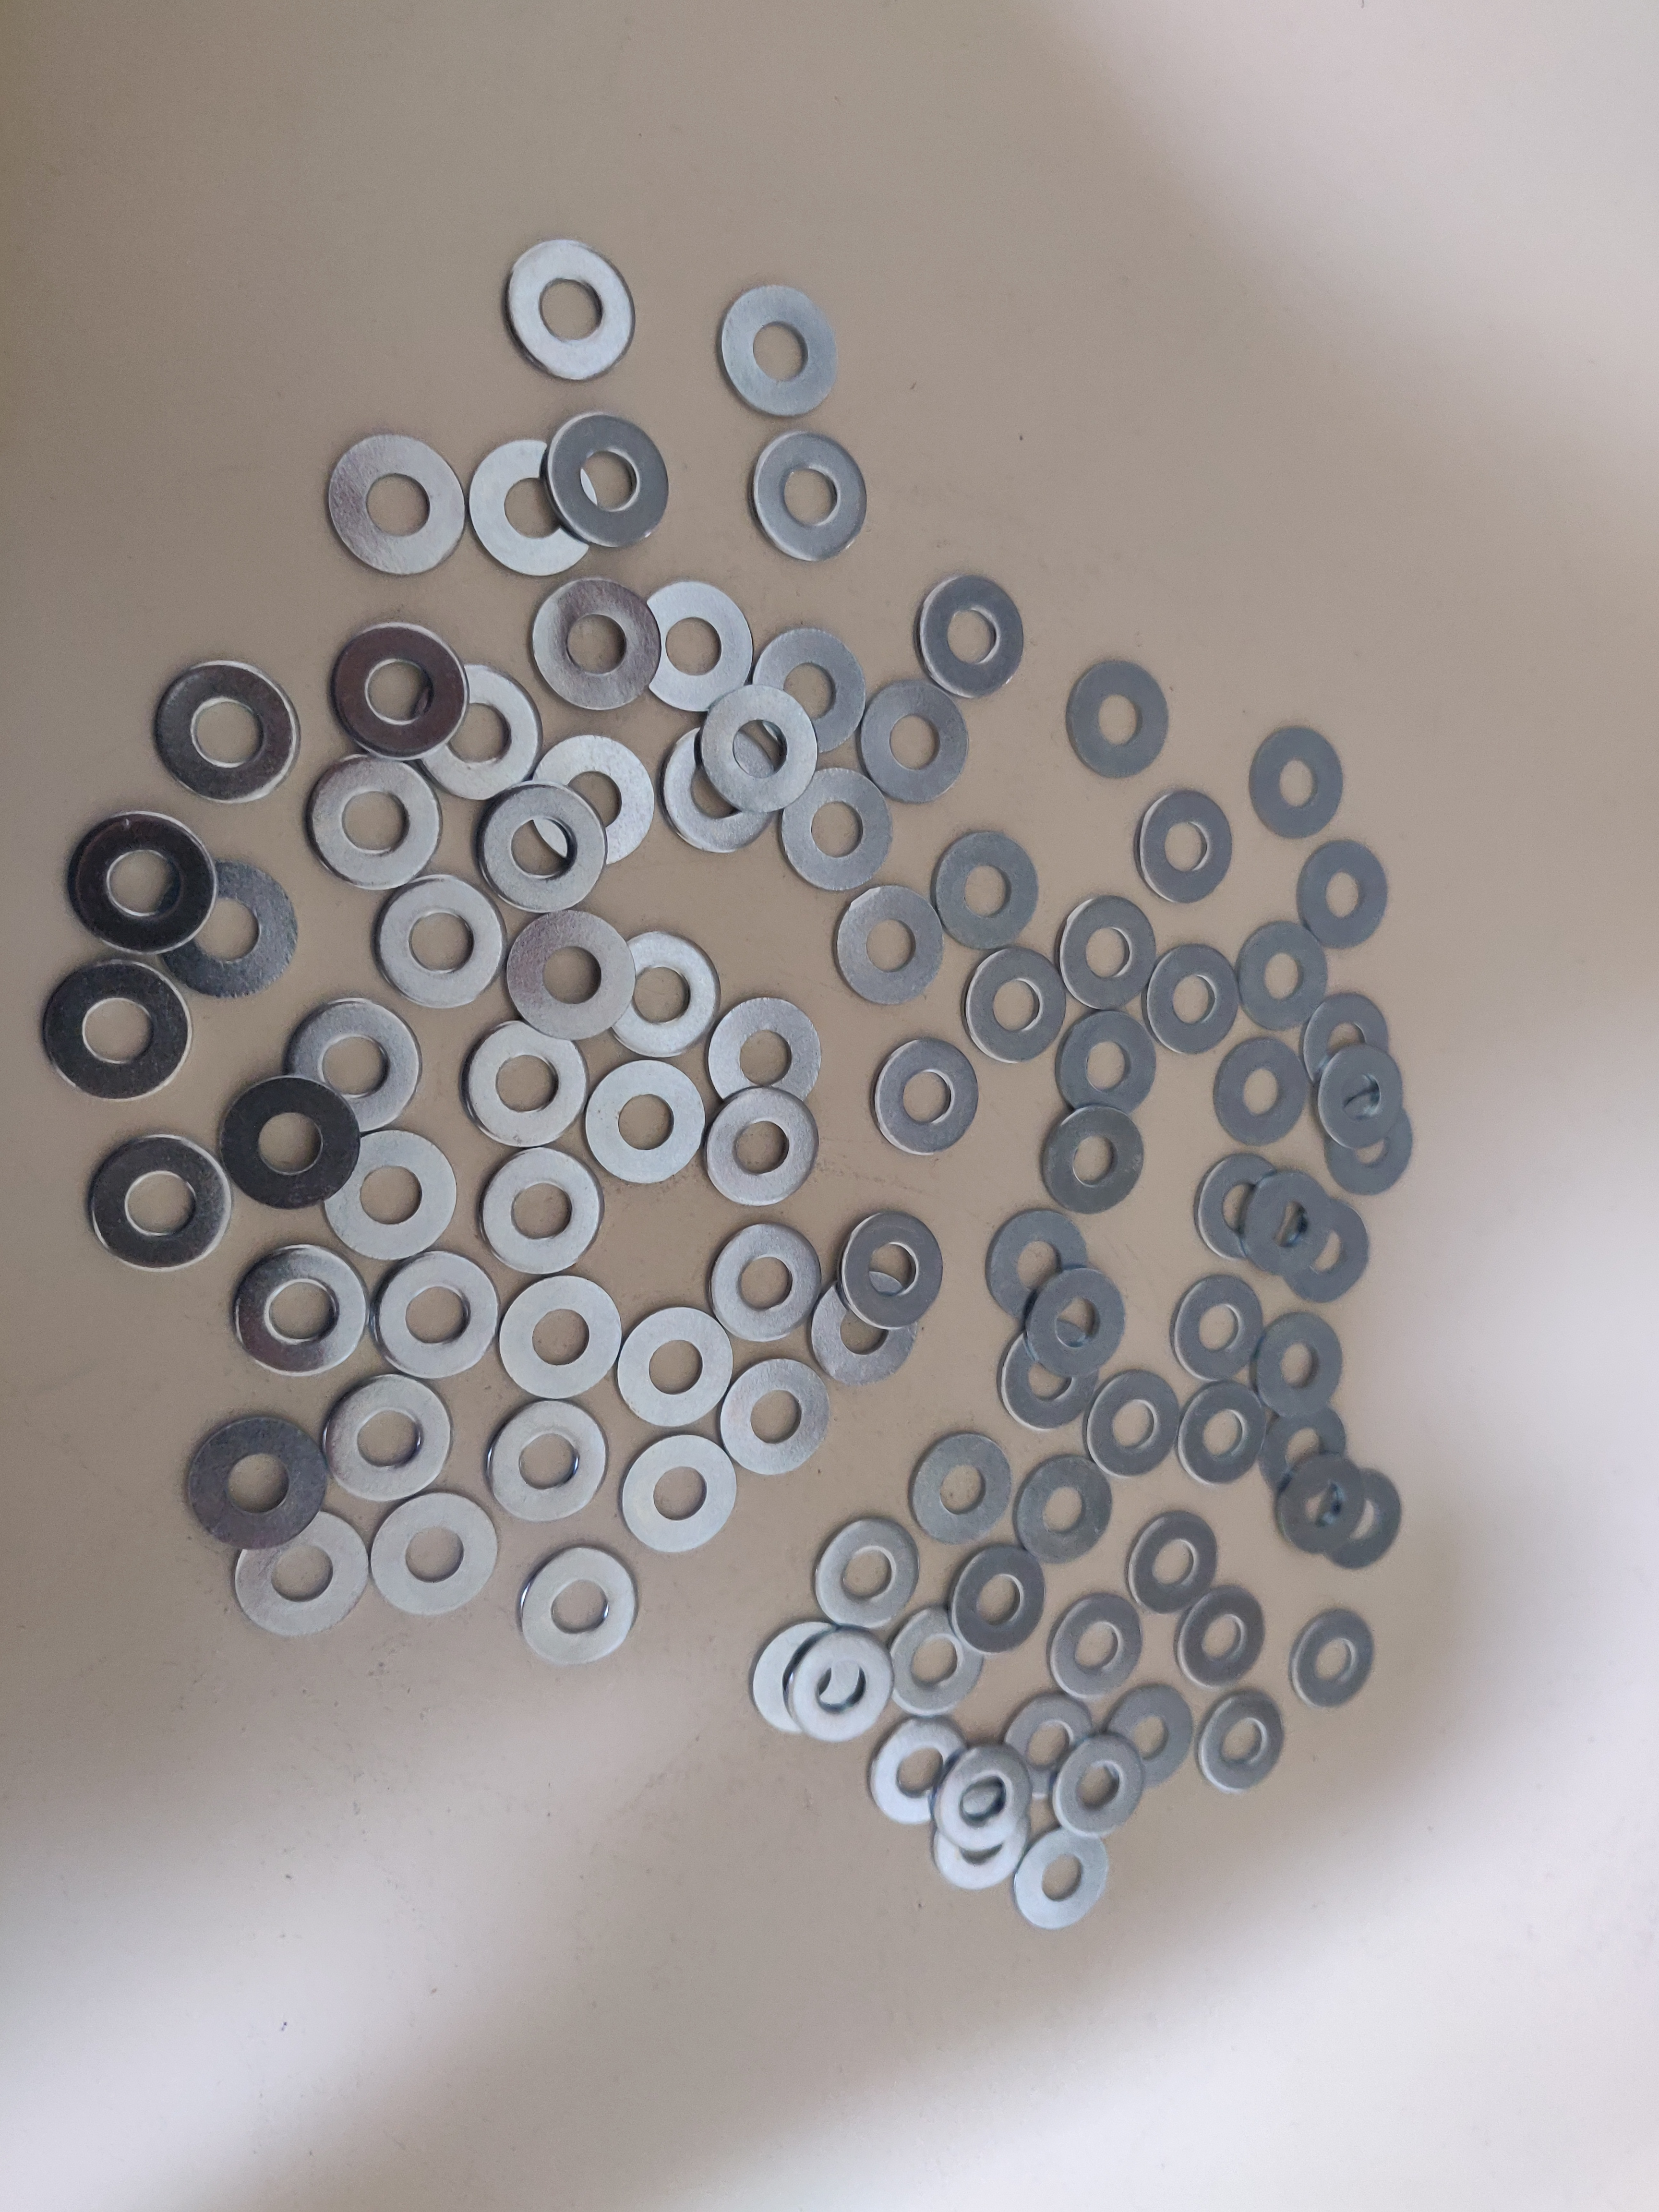cirlce: (319, 423, 474, 589), (146, 651, 303, 806), (68, 806, 218, 958), (42, 958, 192, 1104), (153, 857, 300, 1003), (85, 1129, 232, 1273), (328, 620, 472, 765), (465, 434, 606, 582), (181, 1409, 326, 1547), (305, 754, 444, 895), (404, 667, 547, 805), (220, 1076, 359, 1216), (504, 237, 636, 381), (225, 1245, 371, 1376), (373, 874, 509, 1014), (317, 1371, 453, 1508), (289, 998, 418, 1141), (540, 409, 671, 549), (232, 1508, 371, 1637), (716, 275, 840, 418), (322, 1130, 455, 1263), (746, 427, 871, 566), (502, 909, 636, 1038), (460, 1021, 586, 1158), (359, 1252, 498, 1376), (366, 1489, 497, 1620), (479, 1148, 606, 1282), (528, 735, 657, 866), (653, 723, 782, 852), (495, 1273, 622, 1404), (633, 580, 758, 712), (483, 1399, 612, 1526), (479, 782, 606, 911), (741, 629, 871, 754), (599, 1306, 739, 1423), (694, 686, 821, 813), (774, 765, 894, 899), (598, 932, 723, 1057), (533, 582, 659, 705), (704, 1221, 831, 1341), (709, 1353, 836, 1472), (701, 1083, 821, 1207), (587, 1061, 704, 1188), (518, 1545, 636, 1669), (620, 1433, 741, 1554), (856, 681, 971, 806), (702, 995, 828, 1109), (960, 937, 1068, 1064), (915, 575, 1025, 698), (1066, 651, 1173, 779), (812, 1261, 922, 1383), (875, 1033, 979, 1160), (1134, 782, 1239, 907), (864, 1716, 979, 1829), (1248, 719, 1349, 845), (814, 1517, 922, 1632), (934, 831, 1040, 948), (1023, 1263, 1126, 1383), (845, 1204, 941, 1332), (1037, 1106, 1148, 1216), (985, 1209, 1094, 1320), (746, 1618, 857, 1728), (788, 1625, 892, 1742), (1187, 1150, 1290, 1268), (842, 887, 945, 1003), (911, 1426, 1011, 1547), (885, 1604, 986, 1719), (1232, 918, 1331, 1035), (1209, 1031, 1307, 1148), (1307, 1040, 1405, 1155), (1297, 836, 1392, 953), (934, 1742, 1033, 1853), (1000, 1689, 1091, 1811), (929, 1782, 1030, 1890), (1056, 1010, 1155, 1120), (1147, 946, 1244, 1057), (1100, 1684, 1195, 1796), (1276, 1197, 1377, 1301), (1014, 1454, 1112, 1562), (1166, 1275, 1262, 1385), (1127, 1508, 1223, 1618), (1239, 1163, 1335, 1273), (1298, 989, 1392, 1101), (1173, 1581, 1267, 1691), (1014, 1829, 1114, 1932), (1248, 1312, 1345, 1416), (951, 1545, 1044, 1653), (1086, 1371, 1178, 1479), (1324, 1094, 1420, 1197), (1049, 1590, 1143, 1695), (1256, 1399, 1349, 1503), (1276, 1454, 1364, 1561), (1176, 1385, 1267, 1486), (1053, 1737, 1143, 1838), (1316, 1467, 1403, 1571), (1290, 1606, 1377, 1709), (1201, 1689, 1286, 1789)
